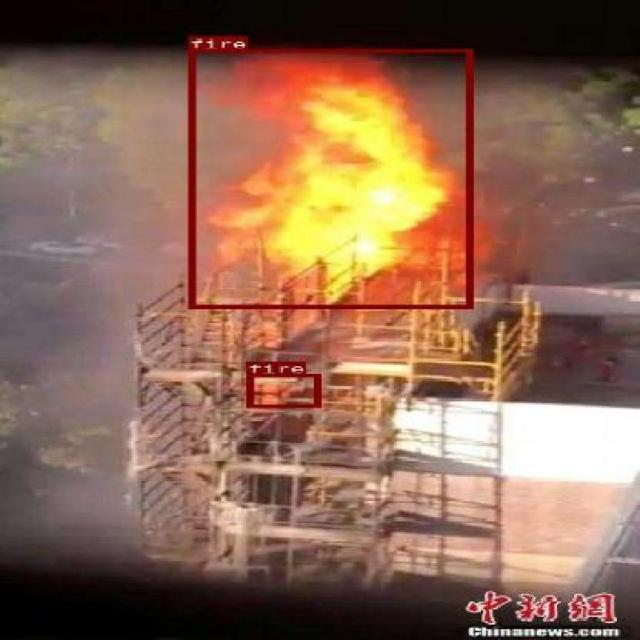Fire: (186, 49, 472, 308), (246, 373, 320, 407)
